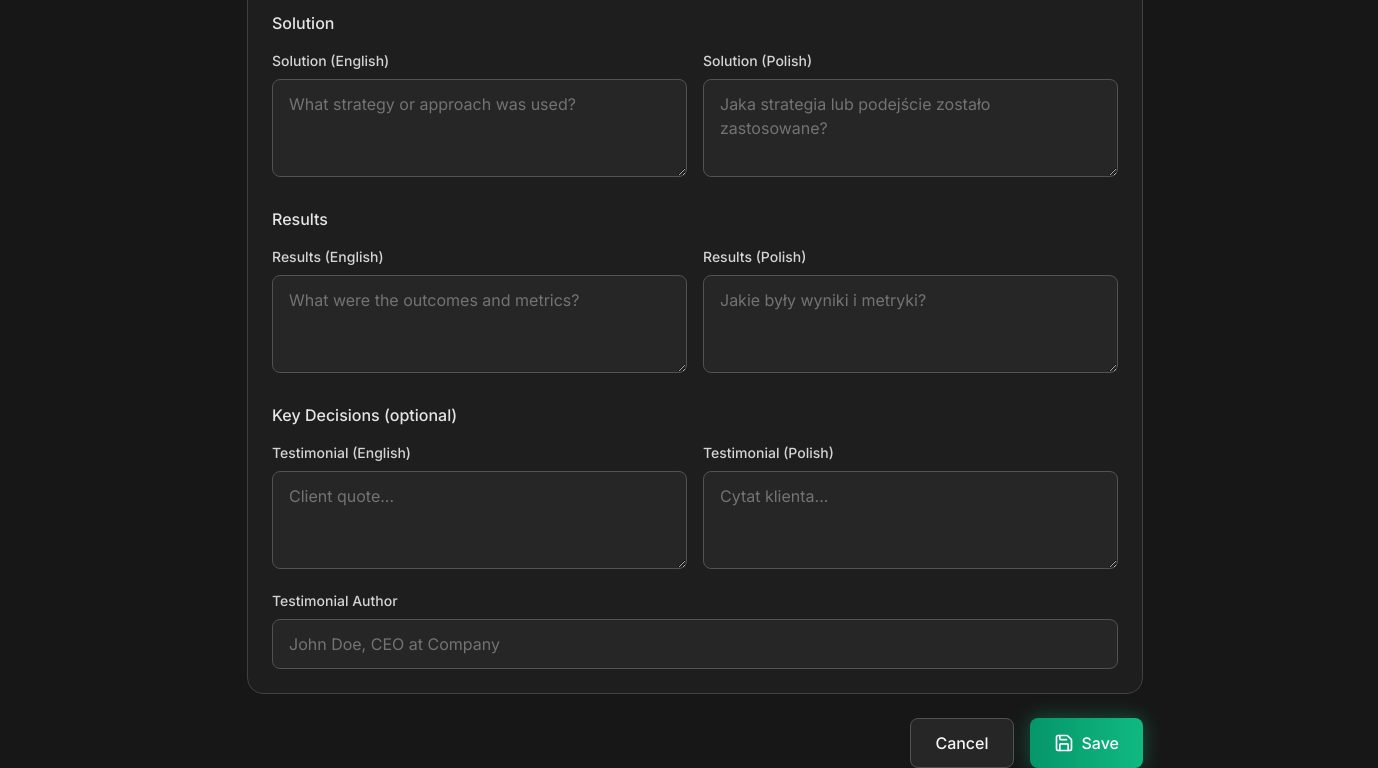
Test case: AdminPostForm unsaved-changes baseline › does not ask for confirmation on Cancel right after opening an existing post
The width and height of the screenshot is (1378, 768).
(page scrolled)
Click the button "Cancel" at (962, 743), box [910,718,1014,767]
(page scrolled)
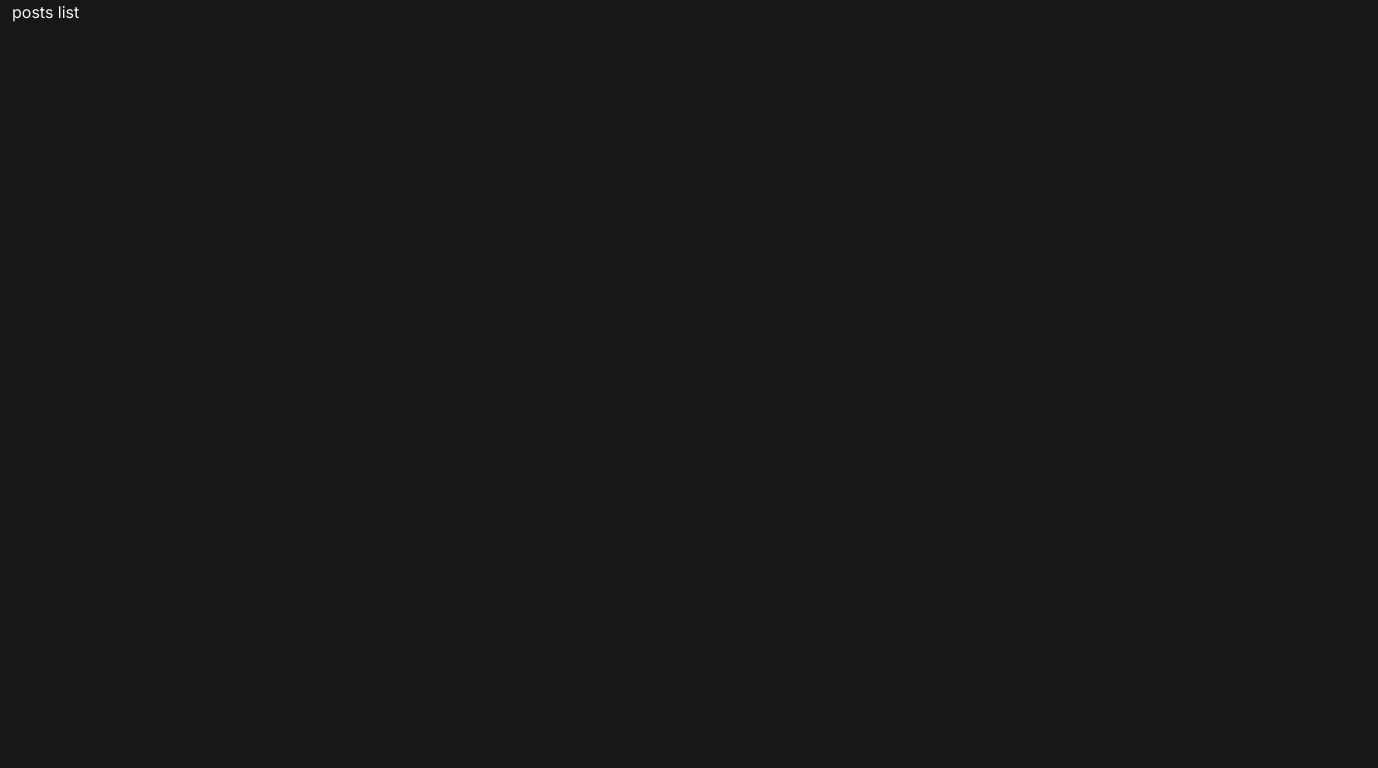
Expected: the text "posts list" is shown, [12,2,79,22]
